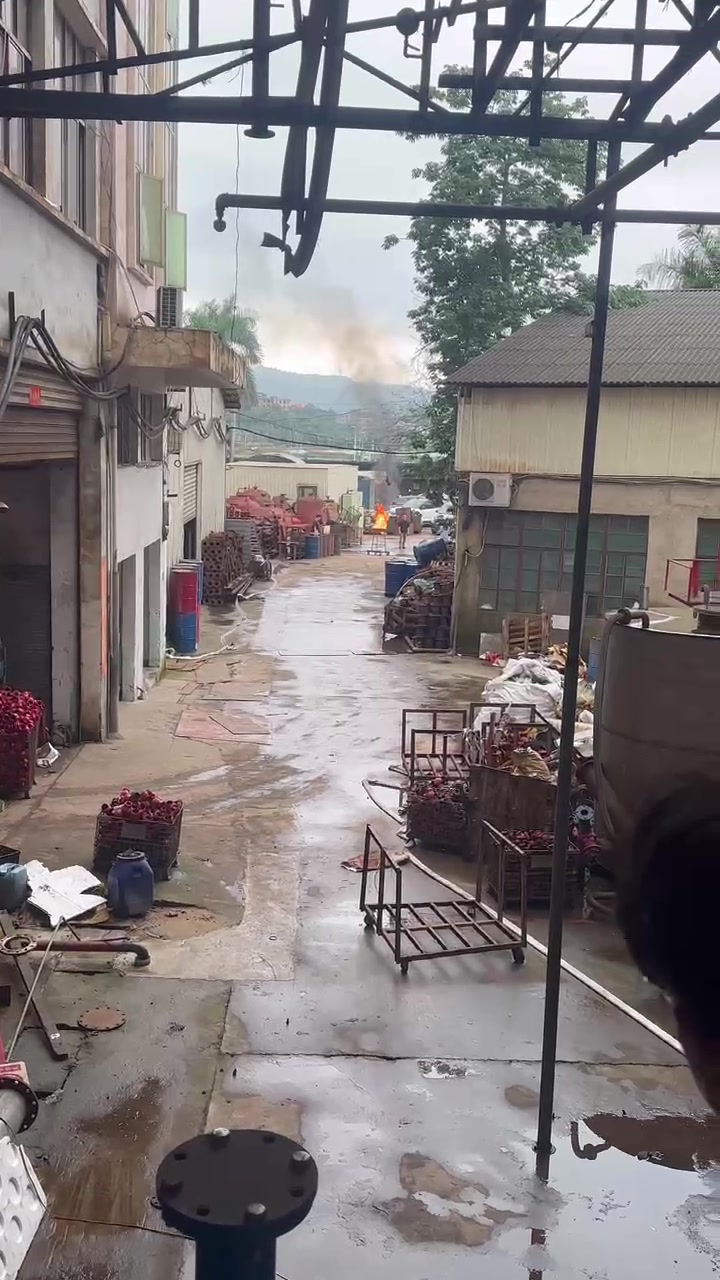fire: (371, 503, 386, 528)
